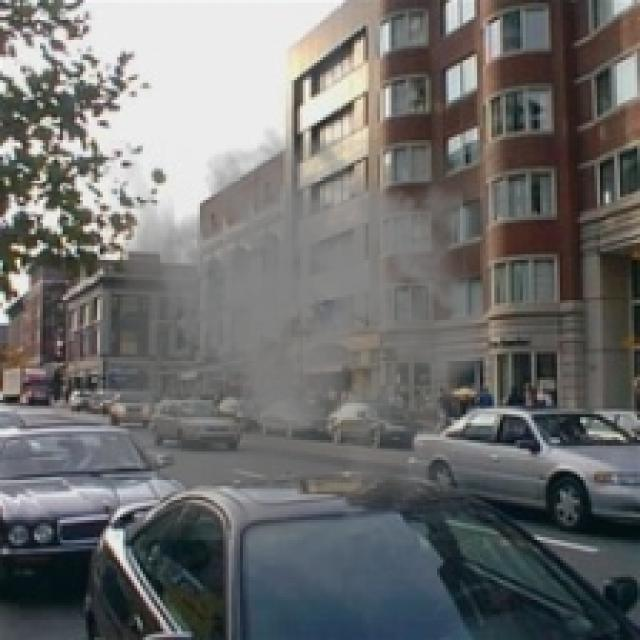smoke: (94, 126, 509, 540)
